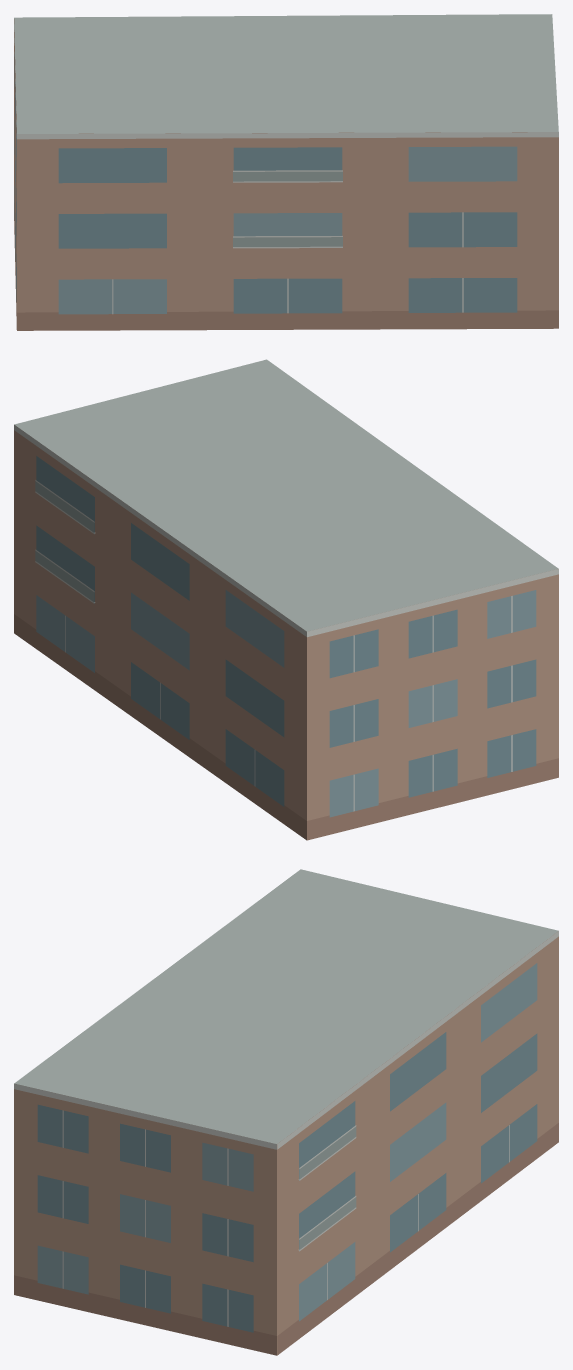
File: survey-upis-32930101.glb
3 views of the same model, one above another, from view 1: azimuth 30°, elevation 25°; view 2: azimuth 150°, elevation 25°; view 3: azimuth 270°, elevation 25° (orthographic). The views are drawn at different scales.
Parts seen in each view (by area): view 1: survey-upis-32930101.tmp; view 2: survey-upis-32930101.tmp; view 3: survey-upis-32930101.tmp.
Boxes of the visible parts, left/top/right/bottom form: survey-upis-32930101.tmp: left=14, top=14, right=558, bottom=330; survey-upis-32930101.tmp: left=14, top=359, right=558, bottom=840; survey-upis-32930101.tmp: left=14, top=869, right=558, bottom=1355.
Bounding box in the file's own units: 25.53 × 9.15 × 21.37.
